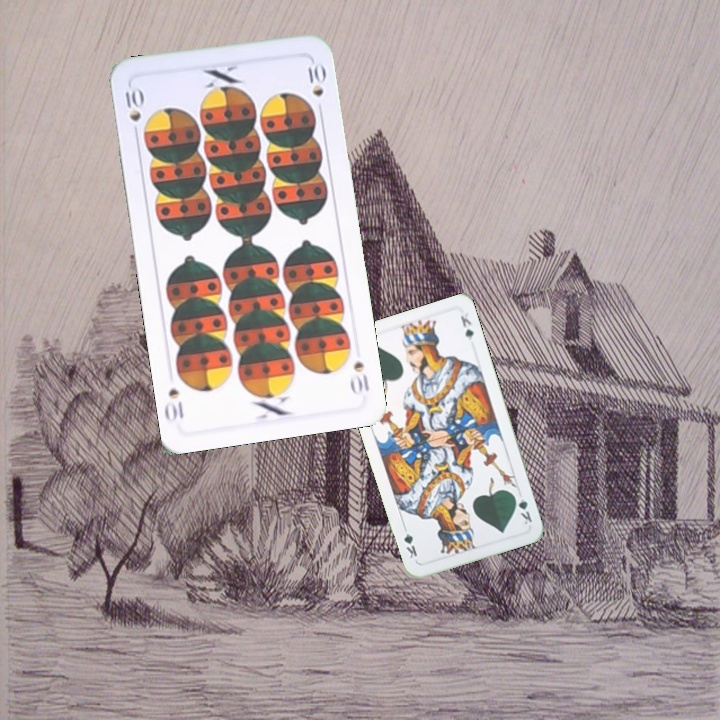GK: (510, 490, 535, 527)
S10: (121, 83, 146, 141), (347, 355, 372, 397)
